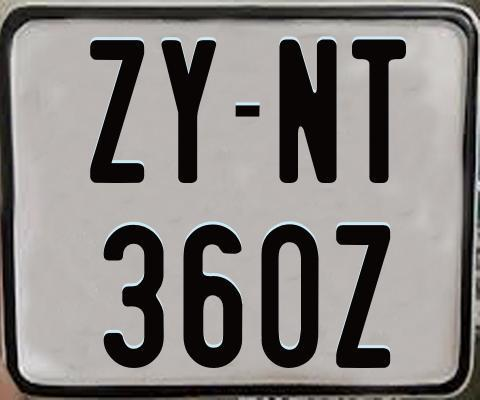0: (260, 224, 319, 369)
3: (101, 224, 168, 368)
6: (180, 222, 245, 372)
N: (279, 39, 340, 185)
T: (350, 37, 408, 183)
Y: (158, 37, 213, 181)
Z: (335, 223, 390, 372), (90, 39, 145, 184)
